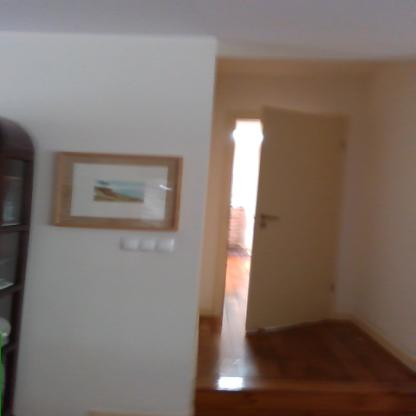semi: (213, 96, 348, 342)
